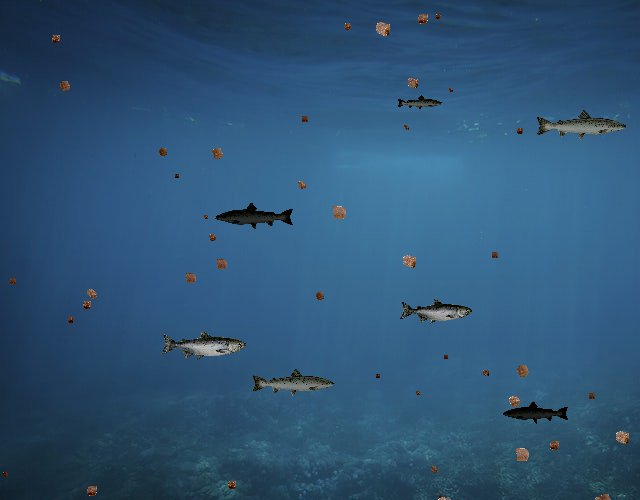Fish: (535, 108, 629, 142), (250, 367, 336, 398), (160, 330, 246, 361), (215, 202, 296, 231), (399, 298, 472, 325), (502, 400, 570, 425), (396, 95, 443, 112)
Pellet: (510, 358, 536, 384), (502, 389, 527, 414), (80, 283, 102, 305), (478, 366, 492, 380), (512, 124, 526, 138), (432, 10, 445, 23), (200, 212, 210, 222)
